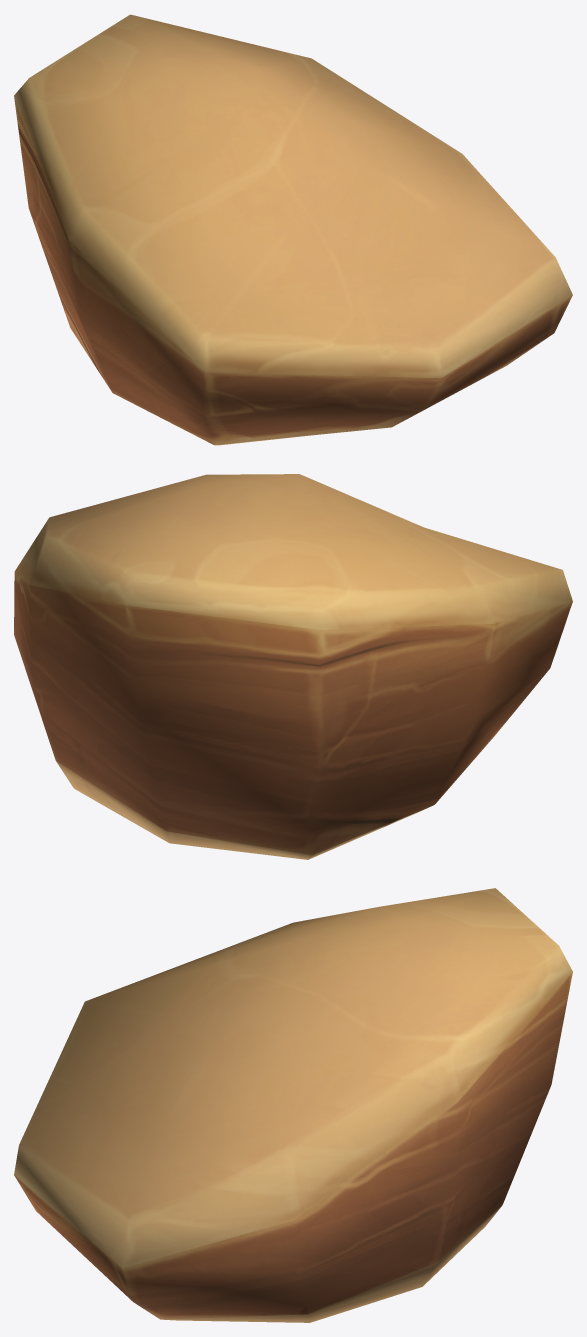
The model's file is DE_Rock_10.fbx.
The picture shows the model from 3 angles, top to bottom: view 1: azimuth 30°, elevation 25°; view 2: azimuth 150°, elevation 25°; view 3: azimuth 270°, elevation 25°; orthographic projection. The views are drawn at different scales.
Parts seen in each view (by area): view 1: DE_Rock_10; view 2: DE_Rock_10; view 3: DE_Rock_10.
Part boxes in pixels (box(x1,y1,x2,y2)): DE_Rock_10: box(14, 14, 572, 445); DE_Rock_10: box(14, 474, 572, 859); DE_Rock_10: box(14, 888, 572, 1322).
Bounding box in the file's own units: 2.21 × 1.38 × 2.38.
